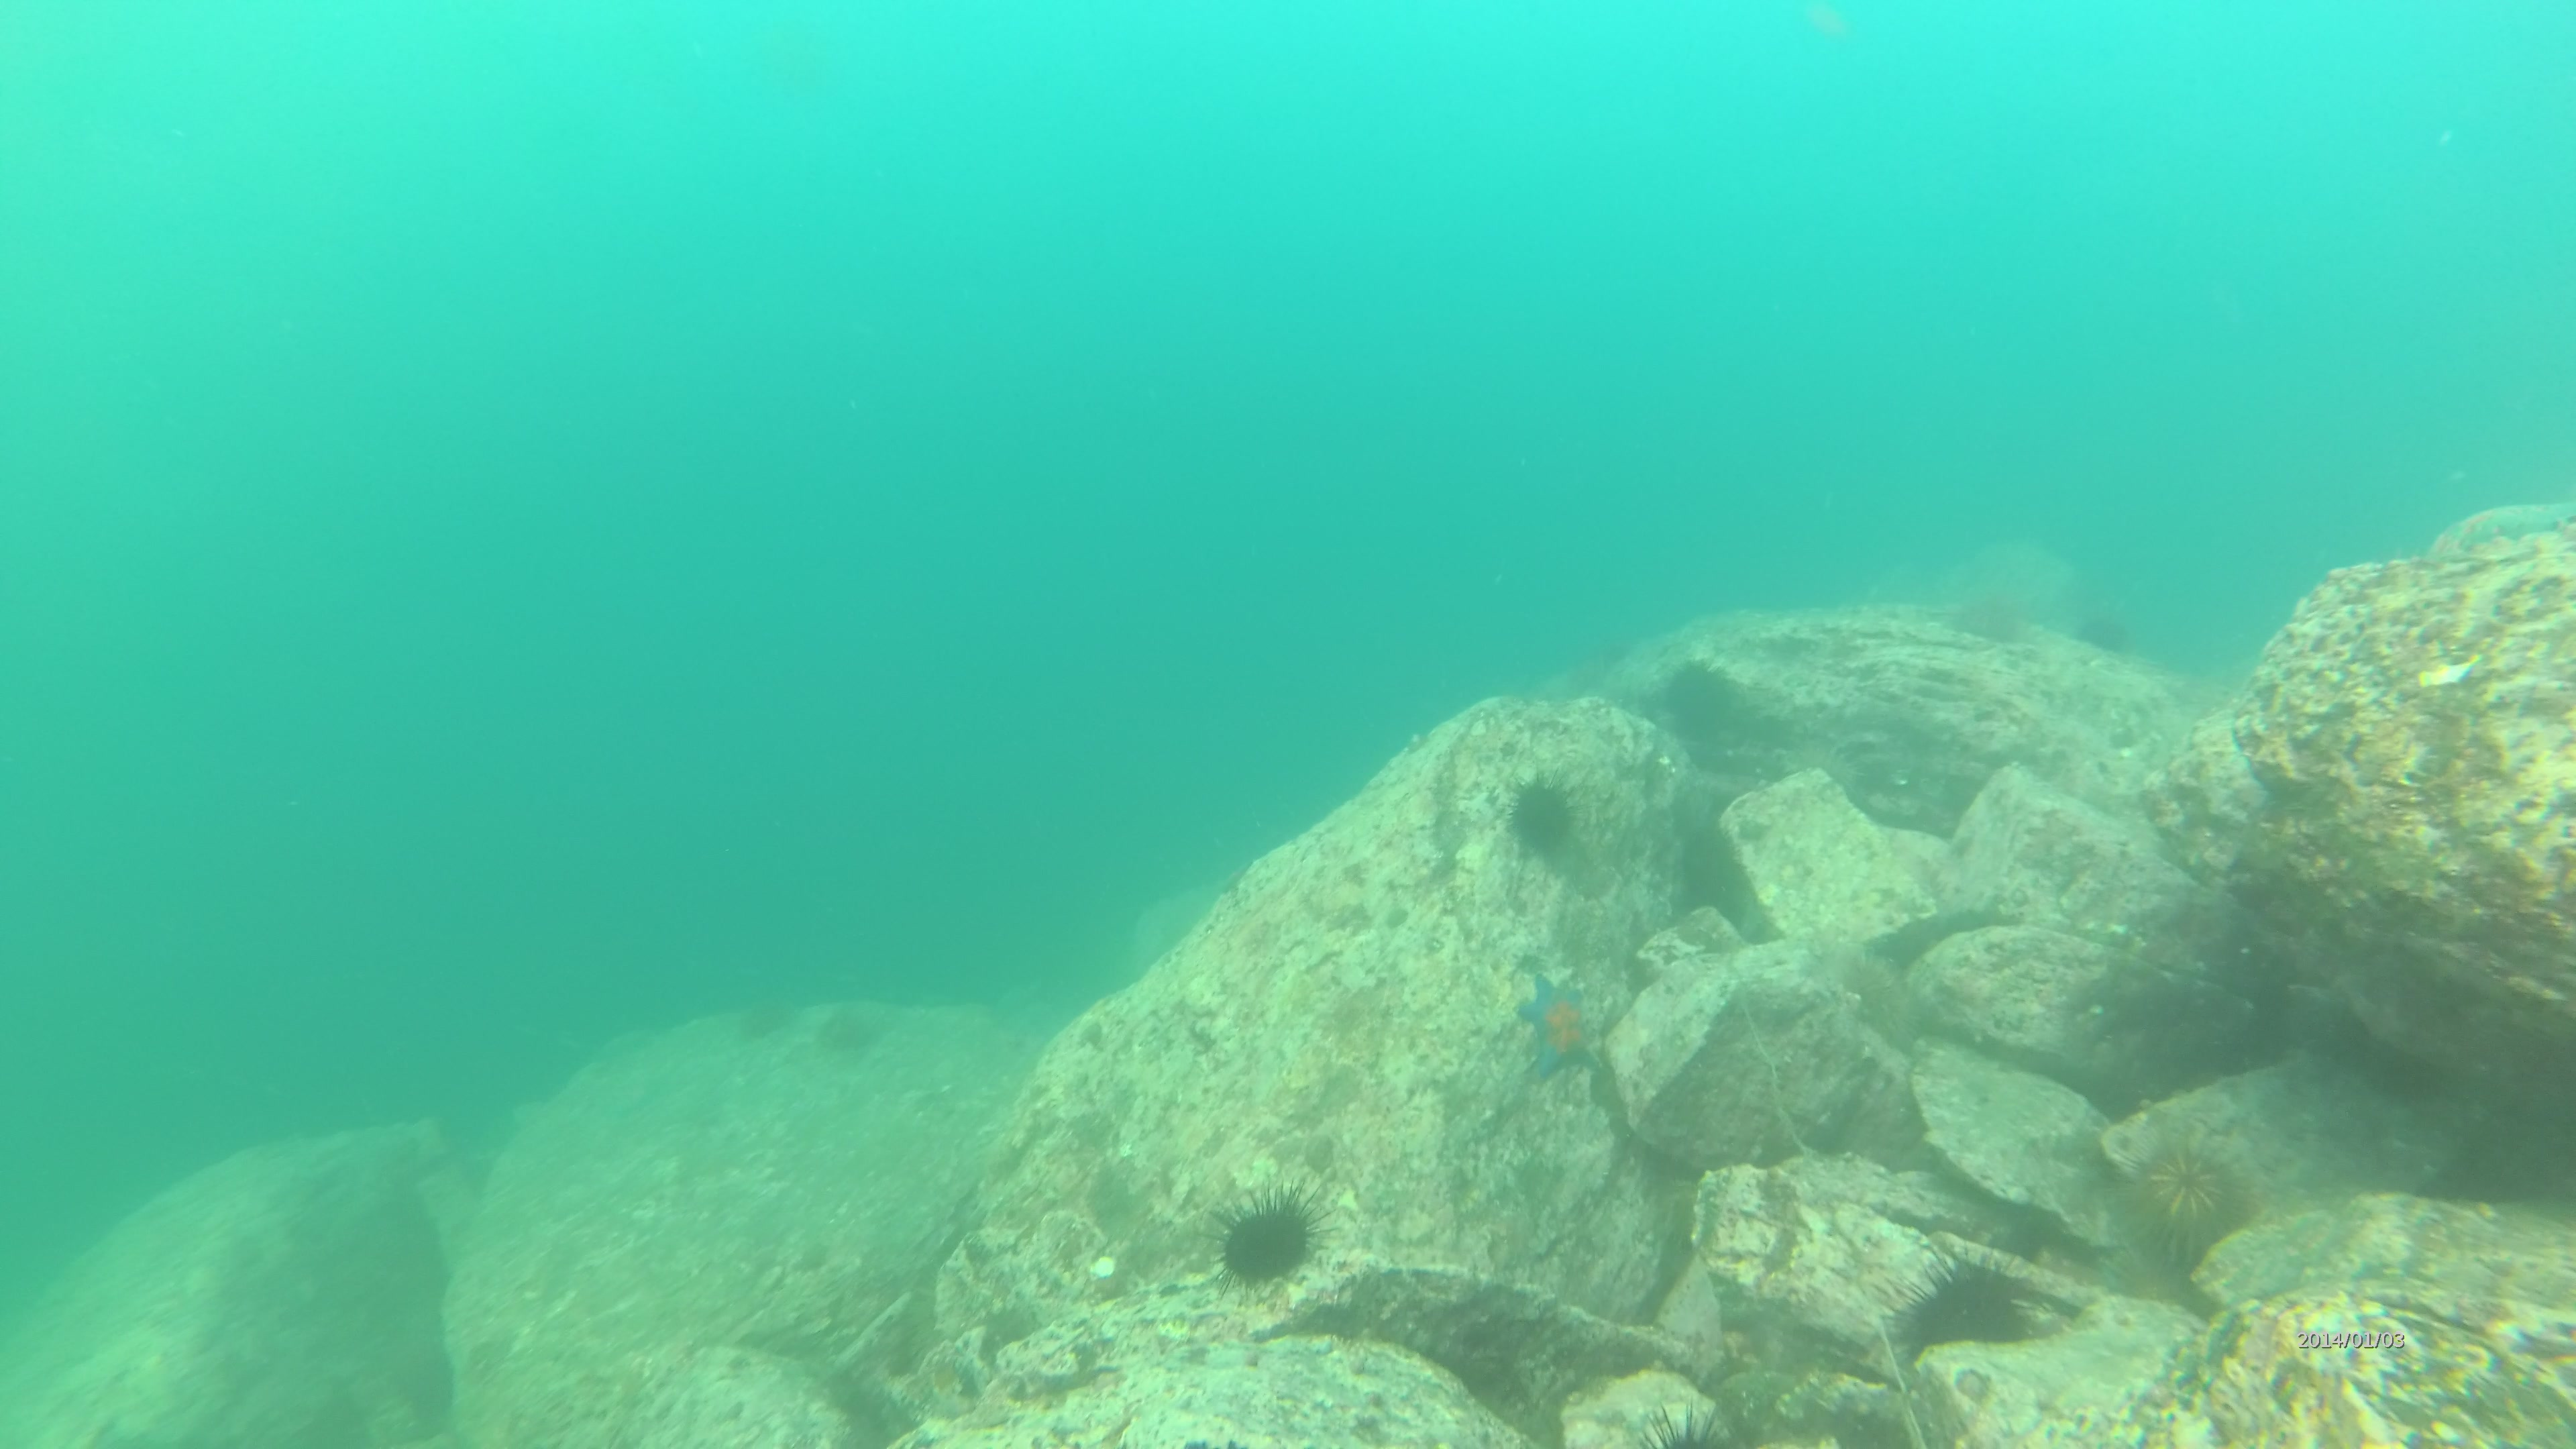echinus: (1898, 1247, 2031, 1361), (2128, 1138, 2238, 1263), (1207, 1185, 1315, 1290), (1491, 771, 1580, 856), (1629, 1398, 1744, 1449)
starfish: (1511, 970, 1599, 1083)
